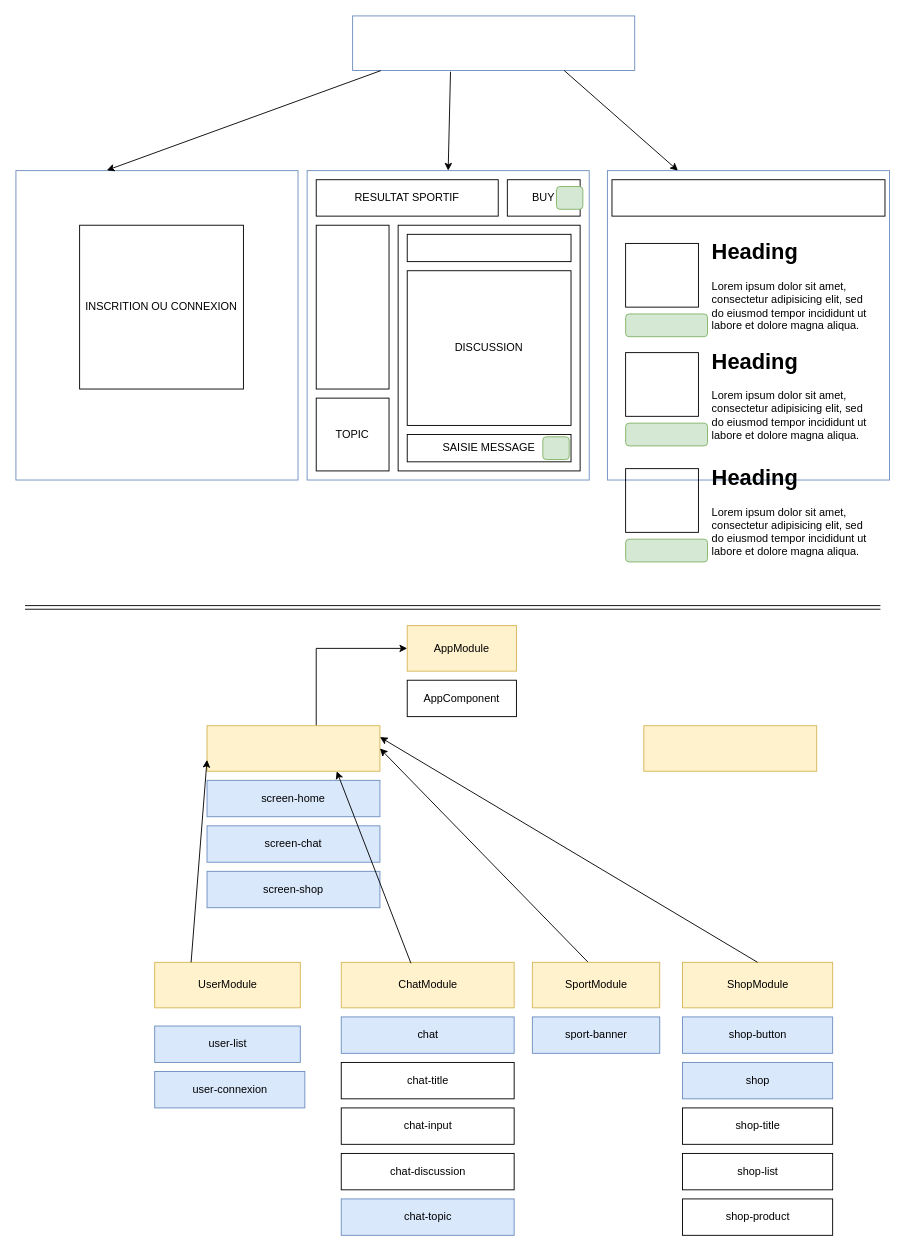
Image size: 905x1251. Some labels were removed from this diagram. Here are the shapes that lost their labels. From the top down, the centre of each, then its label:
At (x=493, y=43): "APPLICATION".
At (x=748, y=197): "ENTETE".
At (x=488, y=247): "TITRE DICSUCCION".
At (x=352, y=306): "USER".
At (x=293, y=748): "ScreenModule".
At (x=730, y=748): "SharedModule".
